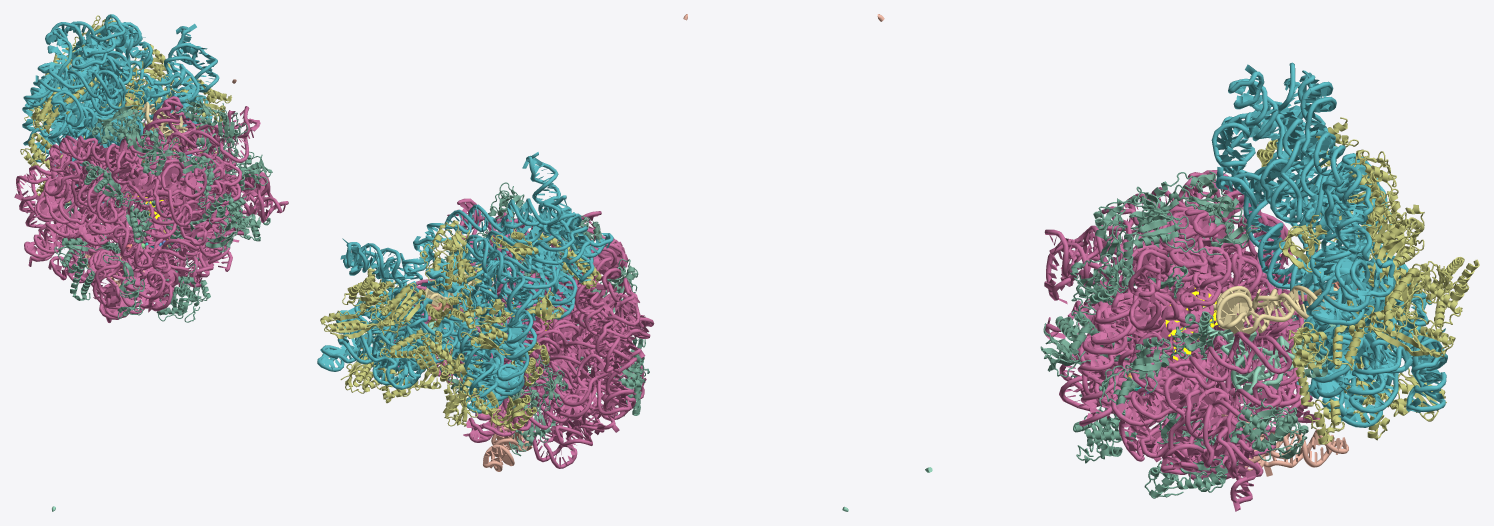
The model's file is 7K00_assembled_pieces.glb.
The picture shows the model from 3 angles, left to right: view 1: azimuth 30°, elevation 25°; view 2: azimuth 150°, elevation 25°; view 3: azimuth 270°, elevation 25°; orthographic projection. The views are drawn at different scales.
Parts seen in each view (by area): view 1: Piece_50S_rRNA, Piece_30S_rRNA, Piece_50S_Proteins, Piece_30S_Proteins, Piece_tRNA_A_Site; view 2: Piece_30S_rRNA, Piece_50S_rRNA, Piece_30S_Proteins, Piece_50S_Proteins, Piece_tRNA_E_Site; view 3: Piece_50S_rRNA, Piece_30S_rRNA, Piece_50S_Proteins, Piece_30S_Proteins, Piece_tRNA_A_Site, Piece_tRNA_P_Site, Piece_tRNA_E_Site.
Part boxes in pixels (<box>): Piece_50S_rRNA: <box>14,96,288,322</box>; Piece_30S_rRNA: <box>22,14,219,203</box>; Piece_50S_Proteins: <box>54,95,272,322</box>; Piece_30S_Proteins: <box>20,15,231,202</box>; Piece_tRNA_A_Site: <box>142,101,200,165</box>; Piece_30S_rRNA: <box>317,152,613,413</box>; Piece_50S_rRNA: <box>393,198,654,468</box>; Piece_30S_Proteins: <box>320,220,601,431</box>; Piece_50S_Proteins: <box>356,182,649,456</box>; Piece_tRNA_E_Site: <box>483,14,687,471</box>; Piece_50S_rRNA: <box>1044,170,1320,511</box>; Piece_30S_rRNA: <box>1211,62,1447,427</box>; Piece_50S_Proteins: <box>1040,171,1327,498</box>; Piece_30S_Proteins: <box>1256,117,1479,444</box>; Piece_tRNA_A_Site: <box>1202,285,1337,334</box>; Piece_tRNA_P_Site: <box>925,324,1343,472</box>; Piece_tRNA_E_Site: <box>877,14,1348,476</box>.
Bounding box in the file's own units: 29.78 × 35.27 × 33.68.
